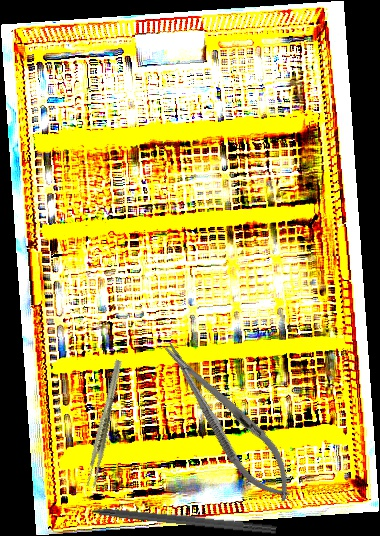Hook Surgical: (65, 501, 278, 535)
Needle Holder: (150, 330, 307, 513)
Tissue Forceps: (65, 358, 145, 490)
